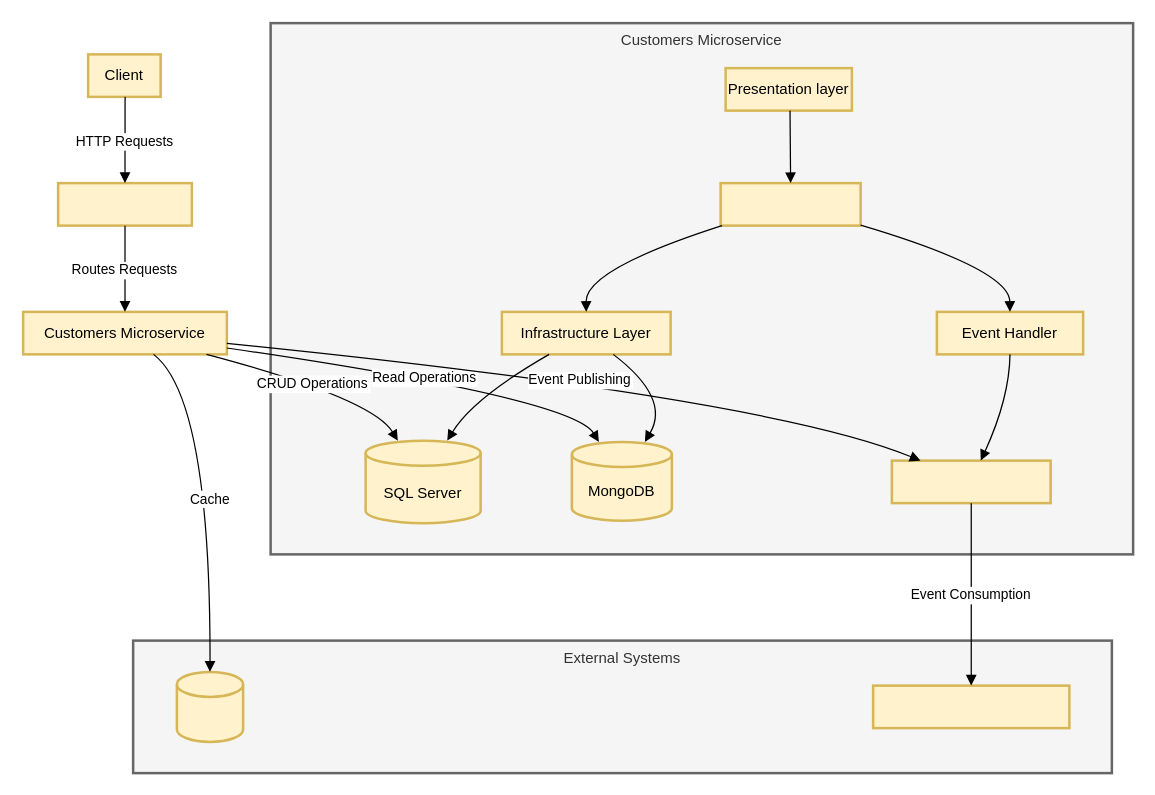
Some shapes in this 1155 by 795 pixel diagram are drawn without their labels. The centre of each missing label's shape, as x and y in pixels:
"API Gateway" goes at point (124, 203).
"Core Layer" goes at point (790, 203).
"Message Broker" goes at point (970, 481).
"Other Microservices" goes at point (970, 706).
"Redis" goes at point (209, 706).
